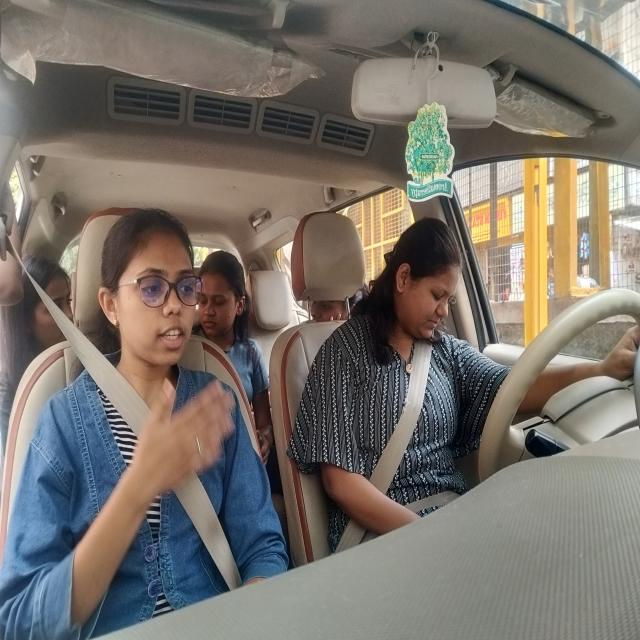drowsy: (382, 219, 463, 347)
person: (92, 212, 199, 378), (14, 258, 76, 358), (198, 258, 244, 343)
